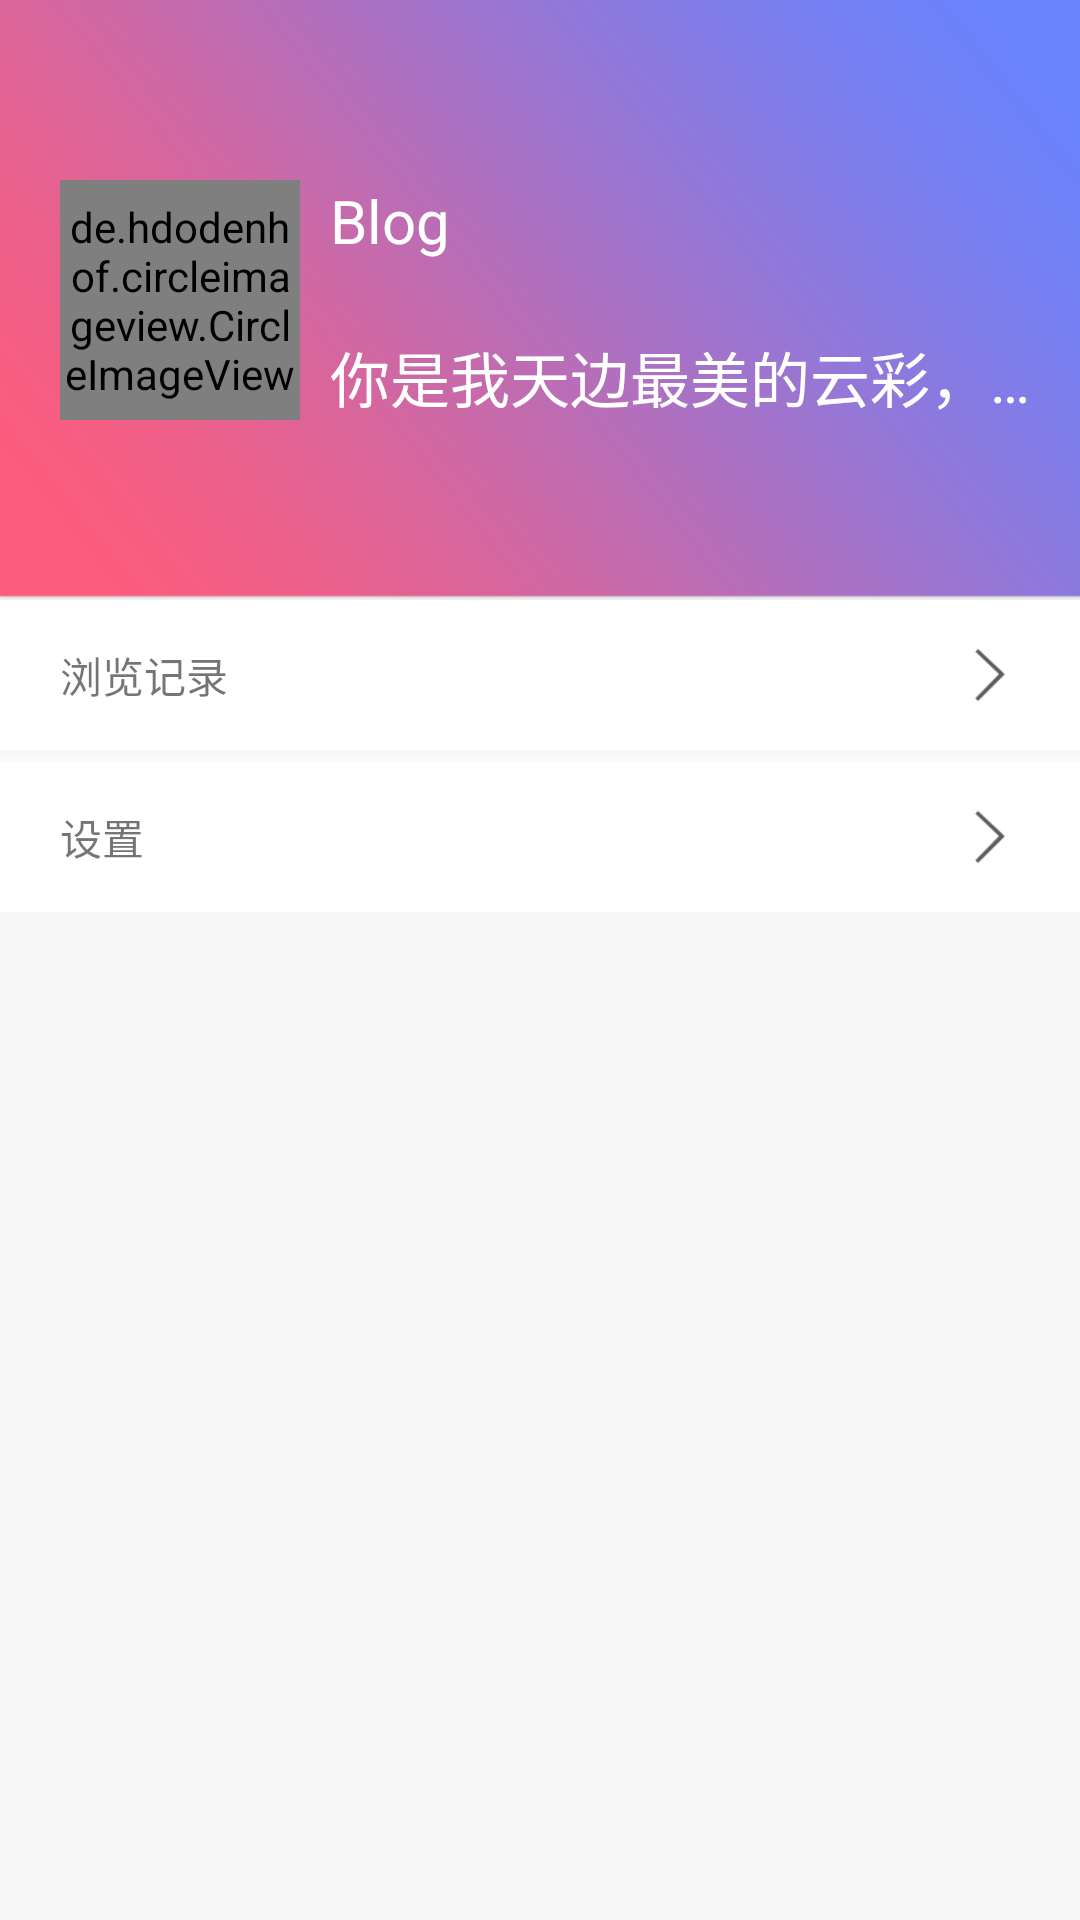

Locate icon controls on the screen. Image size 1080px×1920px, boxes as (x1, y1, x2, y2).
right: (975, 649, 1005, 701), (975, 811, 1005, 863)
